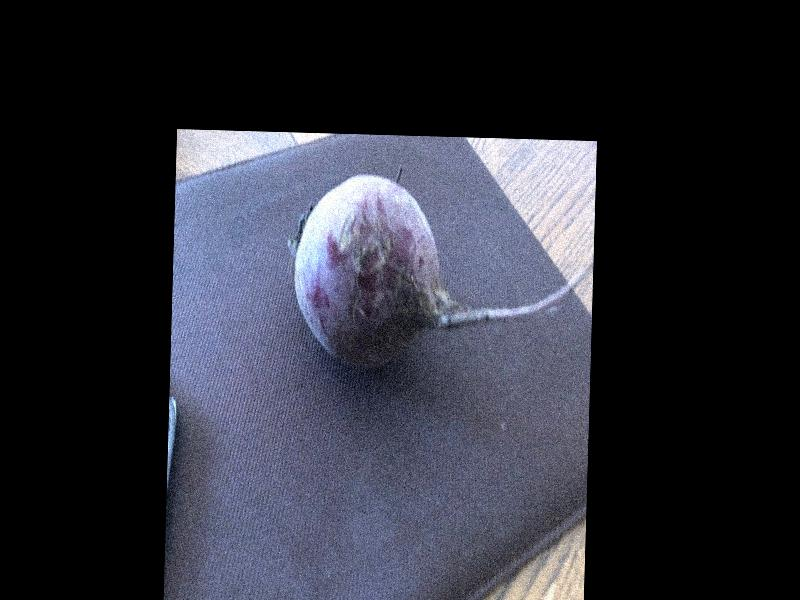Beet: (292, 174, 593, 373)
